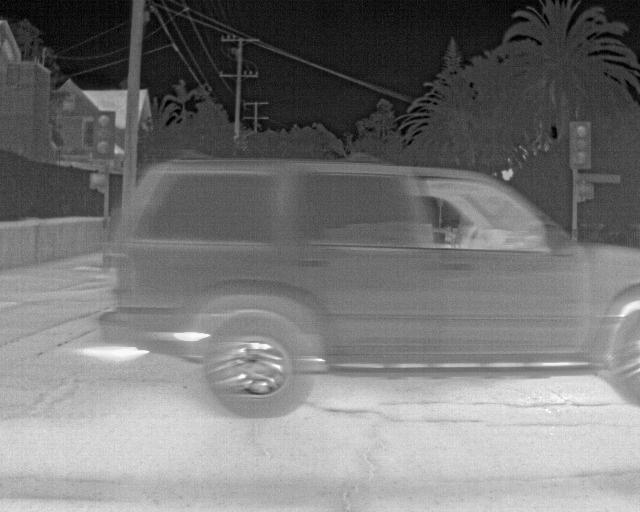car: (95, 159, 639, 426)
